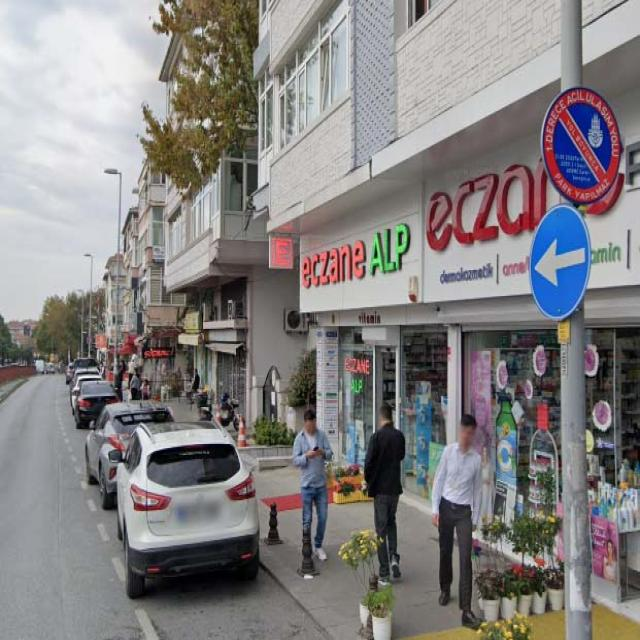parkyasak: (543, 88, 622, 203)
sol: (530, 206, 590, 319)
